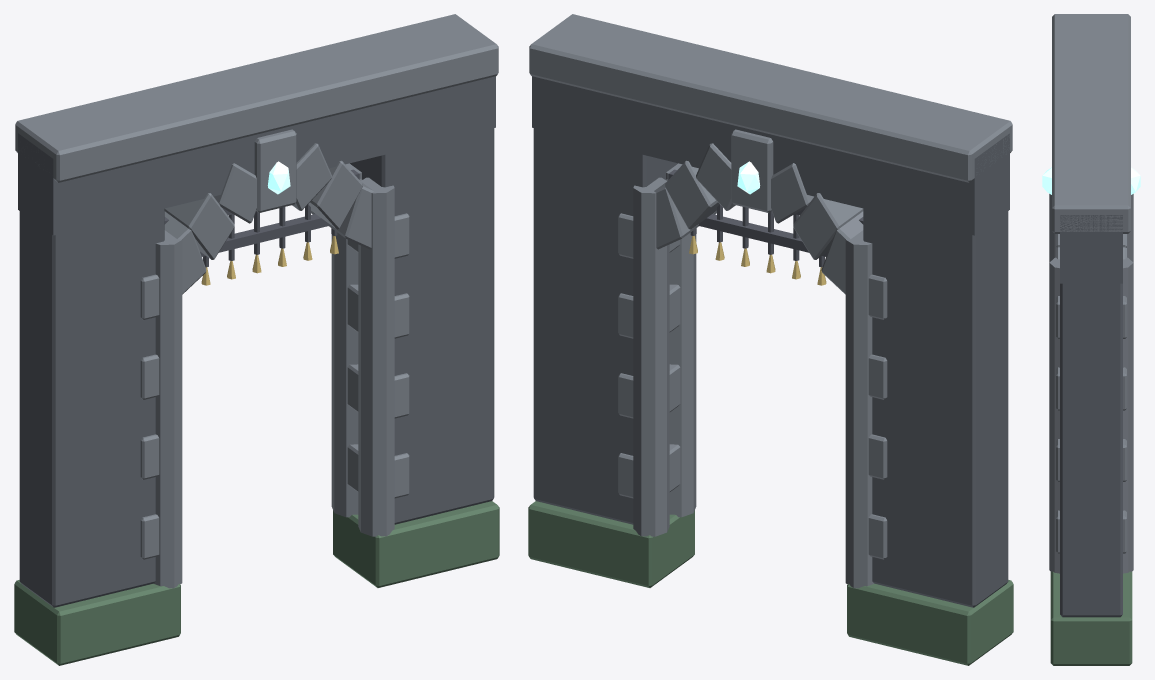
Rendered from castle_arch.glb.
3 views of the same model, side by side, from view 1: azimuth 30°, elevation 25°; view 2: azimuth 150°, elevation 25°; view 3: azimuth 270°, elevation 25° (orthographic). The views are drawn at different scales.
Parts seen in each view (by area): view 1: Castle_Arch; view 2: Castle_Arch; view 3: Castle_Arch.
Part boxes in pixels (left/top/right/bottom): Castle_Arch: left=14, top=14, right=499, bottom=665; Castle_Arch: left=528, top=14, right=1013, bottom=665; Castle_Arch: left=1042, top=14, right=1140, bottom=665.
Size of the model in its own units: 4 by 4.44 by 0.8592.
